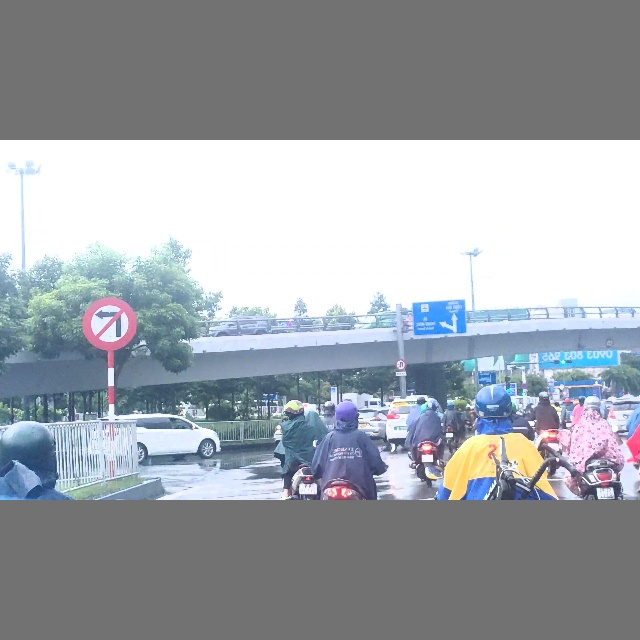P.123b: (83, 296, 137, 352)
P.124b1: (395, 359, 406, 371)
